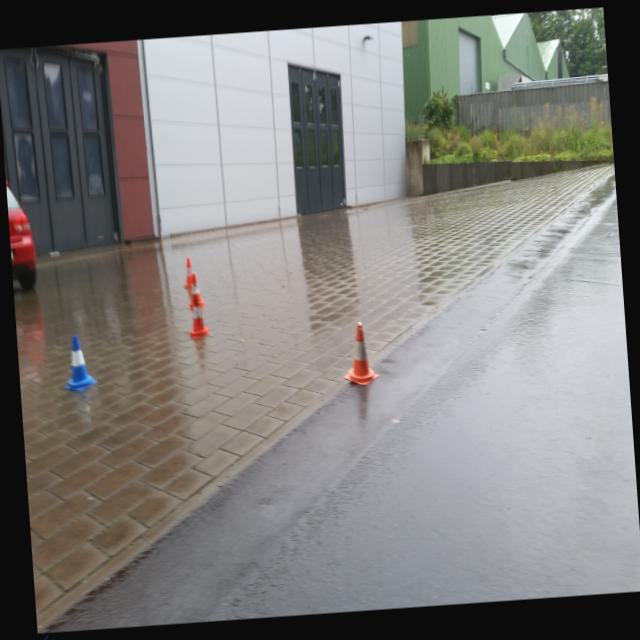blue_cone: (61, 333, 98, 392)
orange_cone: (339, 320, 380, 386), (184, 292, 210, 338), (188, 272, 205, 307), (182, 256, 194, 287)
